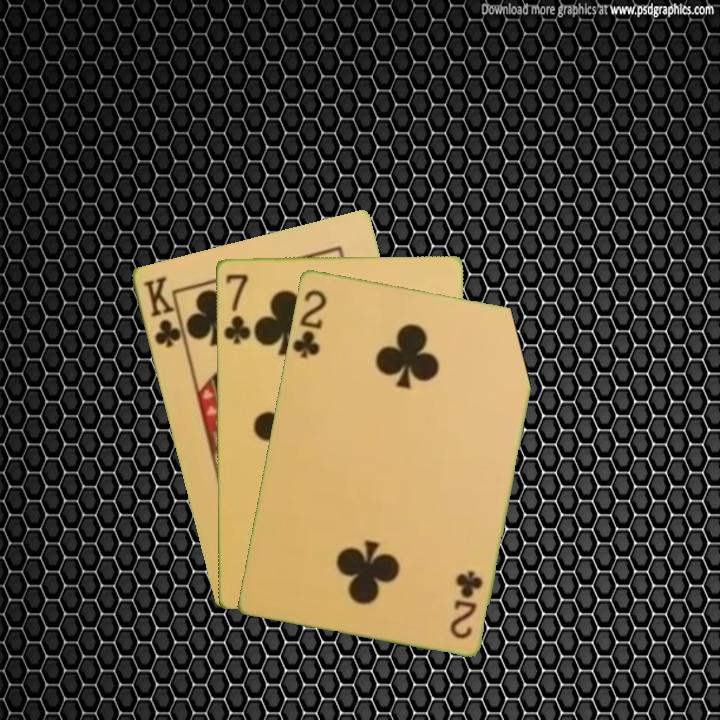2c: (289, 285, 329, 361), (446, 567, 485, 641)
7c: (220, 270, 253, 347)
Kc: (139, 272, 188, 351)
